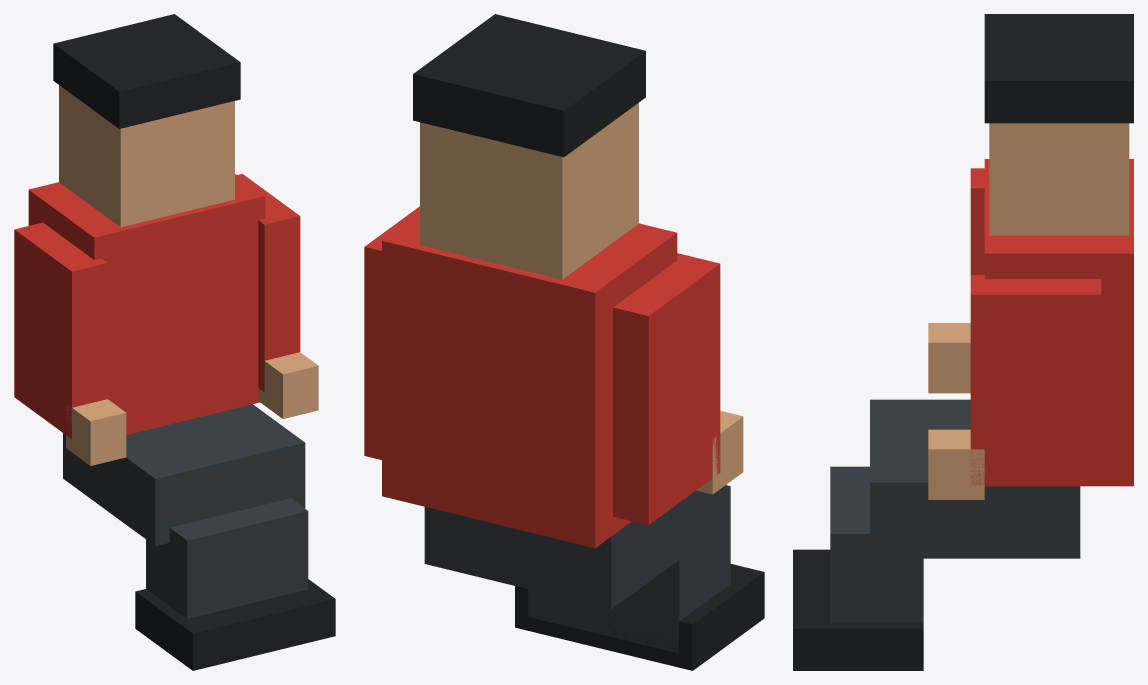
File: spectatorA.glb
3 renders of one model, left to right at view 1: azimuth 30°, elevation 25°; view 2: azimuth 150°, elevation 25°; view 3: azimuth 270°, elevation 25°, orthographic. The views are drawn at different scales.
Visible parts, largest first — view 1: spectatorA_red, spectatorA_steelDark, spectatorA_black, spectatorA_skin; view 2: spectatorA_red, spectatorA_black, spectatorA_skin, spectatorA_steelDark; view 3: spectatorA_red, spectatorA_steelDark, spectatorA_black, spectatorA_skin.
Boxes of the visible parts, x1=… form: spectatorA_red: x1=14, y1=174, x2=300, y2=438; spectatorA_steelDark: x1=63, y1=404, x2=308, y2=618; spectatorA_black: x1=53, y1=14, x2=335, y2=670; spectatorA_skin: x1=59, y1=85, x2=318, y2=465; spectatorA_red: x1=364, y1=206, x2=720, y2=548; spectatorA_black: x1=413, y1=14, x2=764, y2=670; spectatorA_skin: x1=420, y1=103, x2=743, y2=494; spectatorA_steelDark: x1=424, y1=484, x2=730, y2=653; spectatorA_red: x1=970, y1=159, x2=1133, y2=486; spectatorA_steelDark: x1=830, y1=399, x2=1080, y2=622; spectatorA_black: x1=793, y1=14, x2=1133, y2=670; spectatorA_skin: x1=928, y1=123, x2=1129, y2=499.
Bounding box in the file's own units: 0.64 × 1.38 × 0.73.
